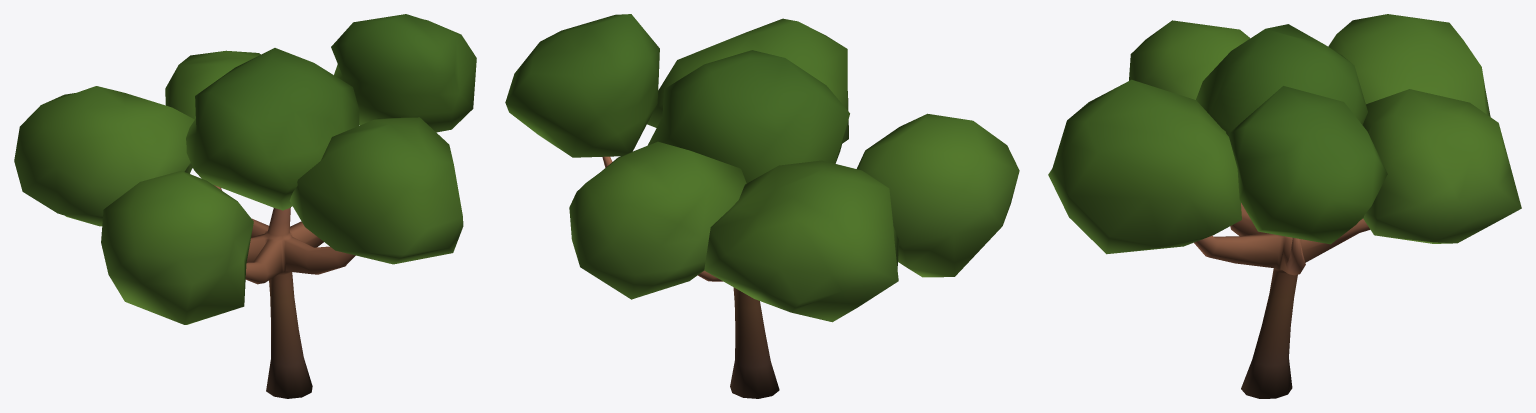
The model's file is Tree_2.fbx.
3 views of the same model, side by side, from view 1: azimuth 30°, elevation 25°; view 2: azimuth 150°, elevation 25°; view 3: azimuth 270°, elevation 25° (orthographic). The views are drawn at different scales.
Parts seen in each view (by area): view 1: Tree_2; view 2: Tree_2; view 3: Tree_2.
Part boxes in pixels (left/top/right/bottom): Tree_2: left=14, top=14, right=476, bottom=398; Tree_2: left=505, top=14, right=1019, bottom=398; Tree_2: left=1048, top=14, right=1521, bottom=398.
Size of the model in its own units: 613 by 483 by 575.
